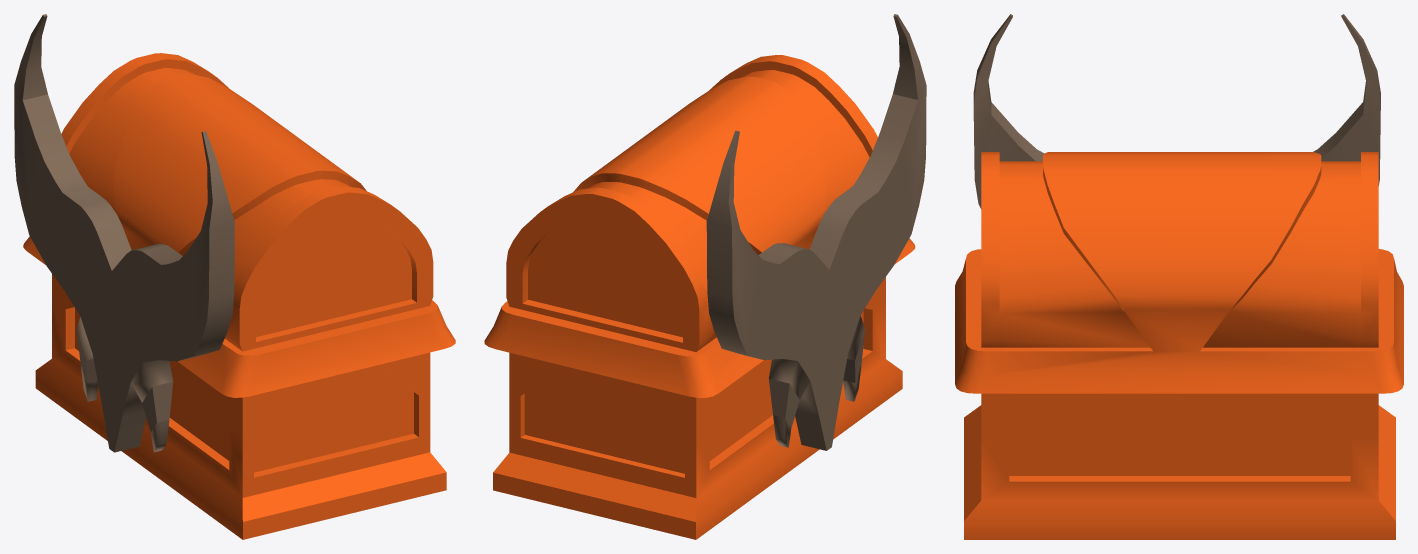
File: ChestMimic(noRig).fbx
The picture shows the model from 3 angles, left to right: view 1: azimuth 30°, elevation 25°; view 2: azimuth 150°, elevation 25°; view 3: azimuth 270°, elevation 25°; orthographic projection. The views are drawn at different scales.
Visible parts, largest first — view 1: LastChest, LestCHestEmblem; view 2: LastChest, LestCHestEmblem; view 3: LastChest, LestCHestEmblem.
Part boxes in pixels (x1,y1,x2,y2): LastChest: (23, 53, 455, 539); LestCHestEmblem: (14, 14, 234, 452); LastChest: (484, 55, 915, 539); LestCHestEmblem: (706, 14, 926, 450); LastChest: (955, 152, 1403, 539); LestCHestEmblem: (973, 14, 1380, 208).
Size of the model in its own units: 40.84 by 63.23 by 62.27.
